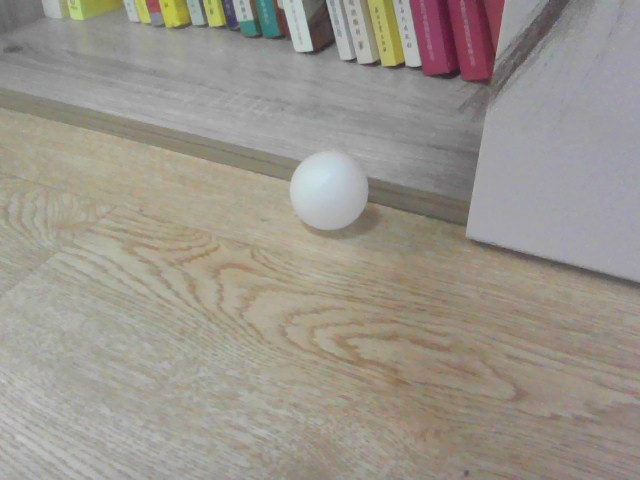ball: (291, 147, 371, 232)
